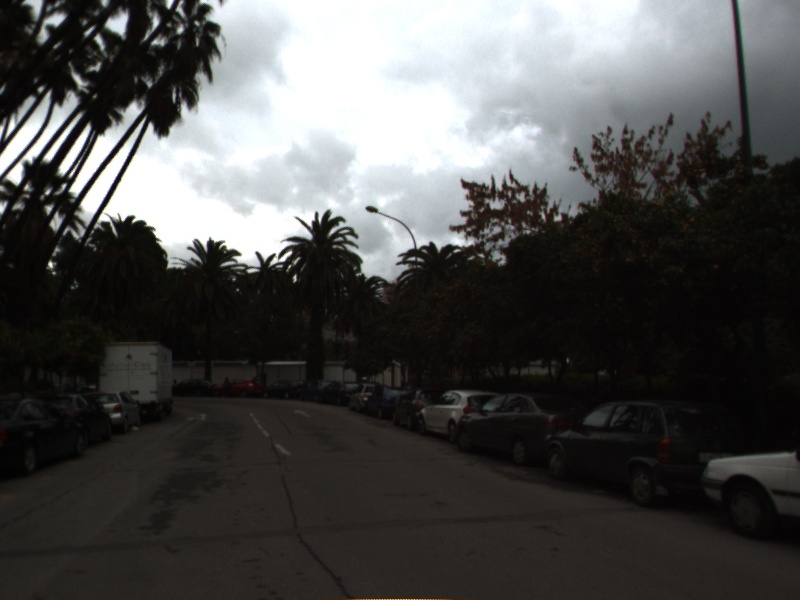STRAIGHT: (292, 407, 313, 419)
STRAIGHT_LEFT: (182, 411, 212, 422)
